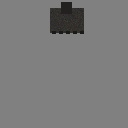armoured_vehicle: (50, 8, 84, 33)
